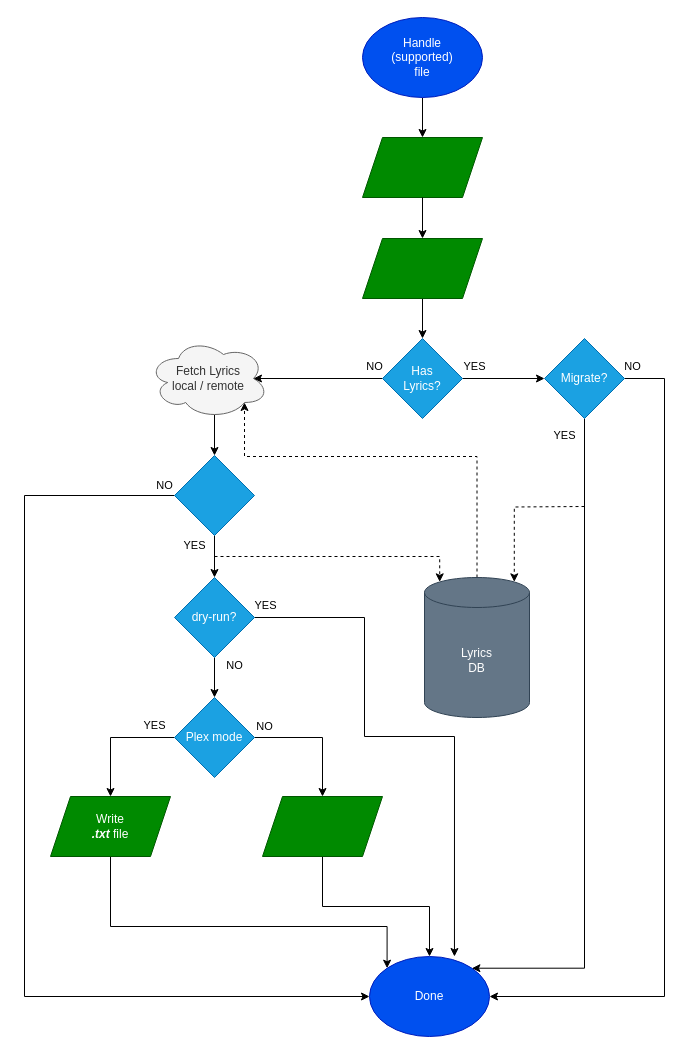
This 690x1054 diagram has some shape labels left out. Here are the shapes that lost their labels. From the top down, the centre of each, then its label:
At point 422,167: "Read config: 1. lyricsify.env 2. CLI args".
At point 422,268: "Read metadata from file".
At point 214,495: "Lyrics Found?".
At point 322,826: "Write lyrics headers (with .bak file)".
